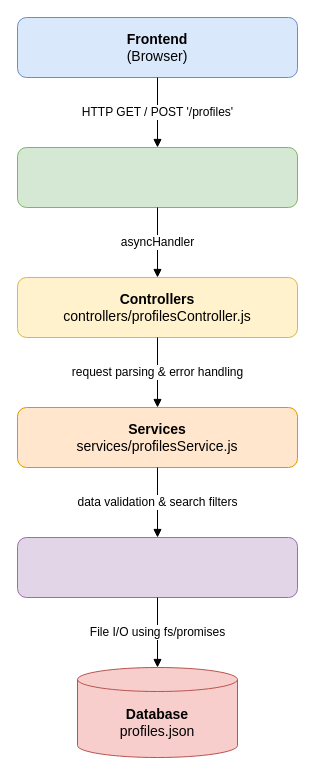
This 315x775 diagram has some shape labels left out. Each missing label, with the centre of its shape:
"Repositories repositories/profilesRepository.js" belongs at (x=157, y=567).
"Routes routes/profiles.js" belongs at (x=157, y=177).
